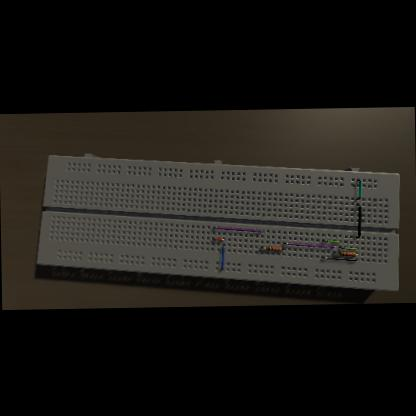breadboard: (34, 148, 400, 298)
resistor: (338, 250, 356, 256), (266, 246, 282, 252)
wire: (282, 242, 335, 249), (214, 226, 263, 232), (354, 203, 362, 237), (322, 256, 358, 262), (356, 180, 361, 200), (322, 240, 342, 244), (221, 244, 224, 270), (338, 247, 358, 250), (213, 237, 224, 240), (332, 252, 340, 254), (260, 246, 265, 248), (282, 248, 284, 249), (356, 254, 358, 255)
